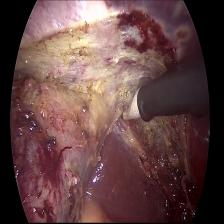Hook: (113, 78, 144, 127)
